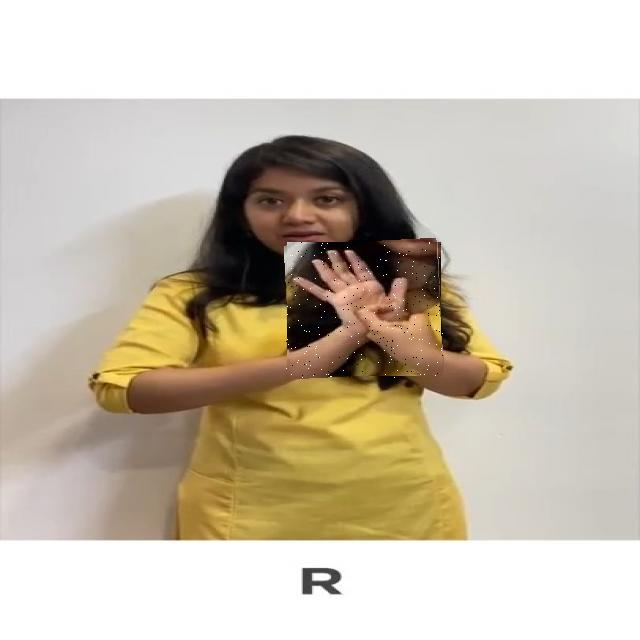R: (286, 240, 443, 378)
